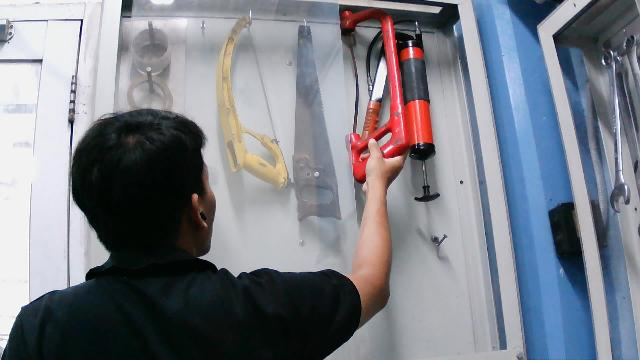gergaji_besi: (333, 3, 414, 188)
